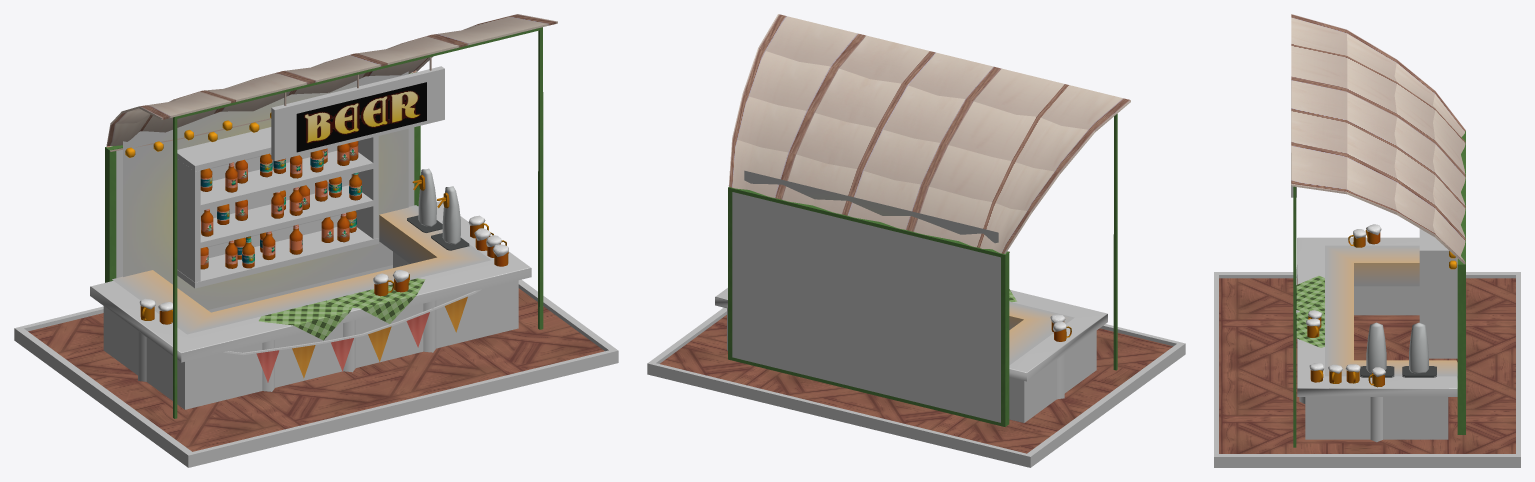
The model's file is Booth_Food01_Art.fbx.
3 views of the same model, side by side, from view 1: azimuth 30°, elevation 25°; view 2: azimuth 150°, elevation 25°; view 3: azimuth 270°, elevation 25° (orthographic). The views are drawn at different scales.
Parts seen in each view (by area): view 1: Oktoberfest_Booth_Food01; view 2: Oktoberfest_Booth_Food01; view 3: Oktoberfest_Booth_Food01.
Part boxes in pixels (x1,y1,x2,y2): Oktoberfest_Booth_Food01: (14,14,618,467); Oktoberfest_Booth_Food01: (647,14,1185,467); Oktoberfest_Booth_Food01: (1214,14,1520,467).
Size of the model in its own units: 711 by 495 by 498.
